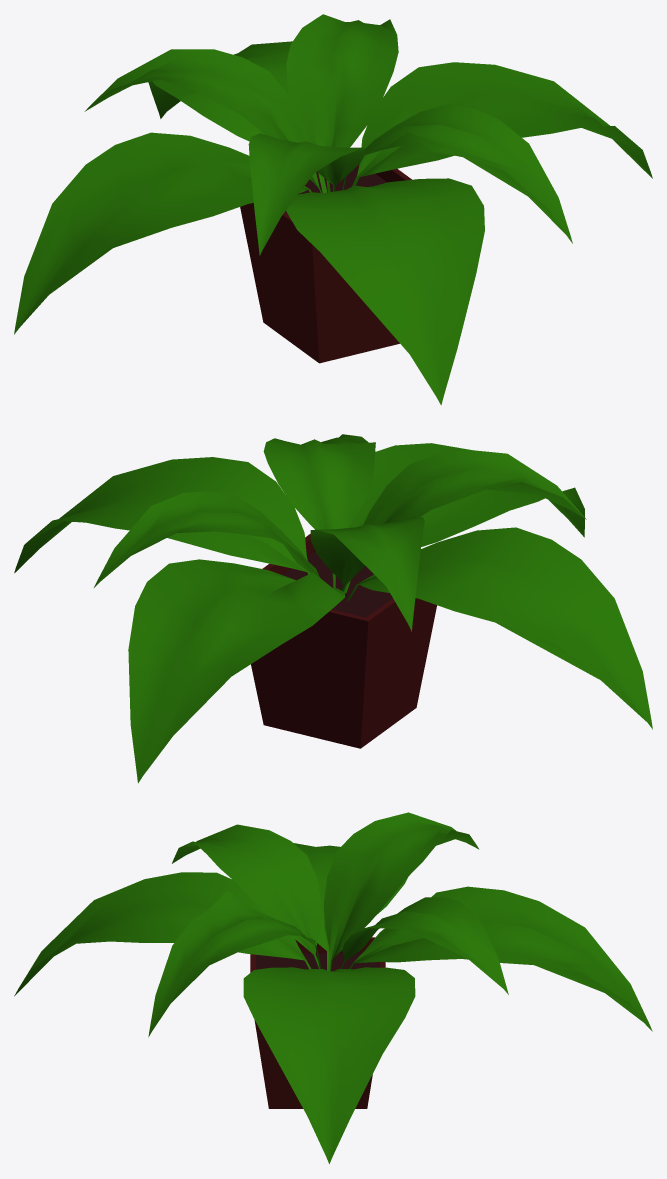
The model's file is plantpuppet1.fbx.
3 views of the same model, one above another, from view 1: azimuth 30°, elevation 25°; view 2: azimuth 150°, elevation 25°; view 3: azimuth 270°, elevation 25° (orthographic). The views are drawn at different scales.
Visible parts, largest first — view 1: Cube; view 2: Cube; view 3: Cube.
Part boxes in pixels (box(x1,y1,x2,y2)): Cube: box(14, 14, 652, 405); Cube: box(14, 434, 652, 783); Cube: box(14, 812, 652, 1163).
Size of the model in its own units: 653 by 243 by 643.
